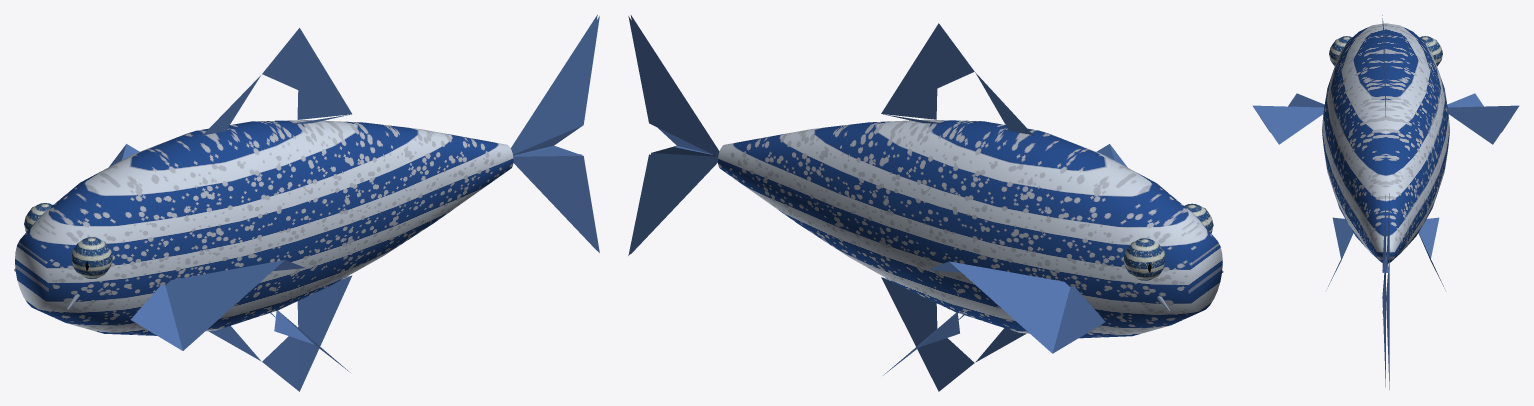
File: zebra-danio-wild.glb
3 renders of one model, left to right at view 1: azimuth 30°, elevation 25°; view 2: azimuth 150°, elevation 25°; view 3: azimuth 270°, elevation 25°, orthographic. The views are drawn at different scales.
Visible parts, largest first — view 1: zebra_danio; view 2: zebra_danio; view 3: zebra_danio.
Part boxes in pixels (<box>): zebra_danio: <box>14,14,599,391</box>; zebra_danio: <box>628,15,1223,391</box>; zebra_danio: <box>1252,15,1519,389</box>.
Bounding box in the file's own units: 3.1 × 1.9 × 1.5.
Materials: 1 (1 with a texture image).
